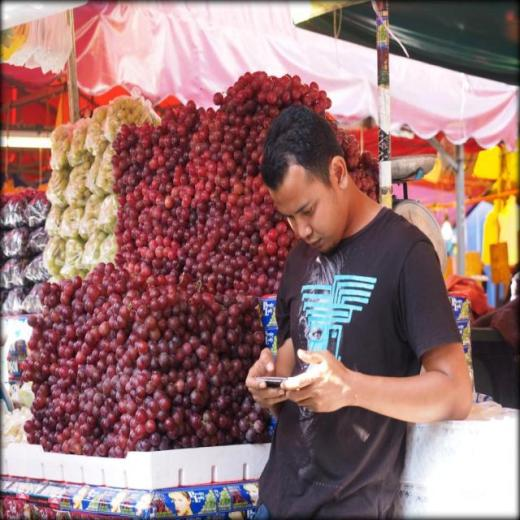Orange: (22, 69, 380, 460)
